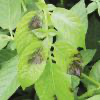Potato leaf late blight: (16, 42, 48, 91), (15, 10, 43, 58), (52, 42, 83, 79)
